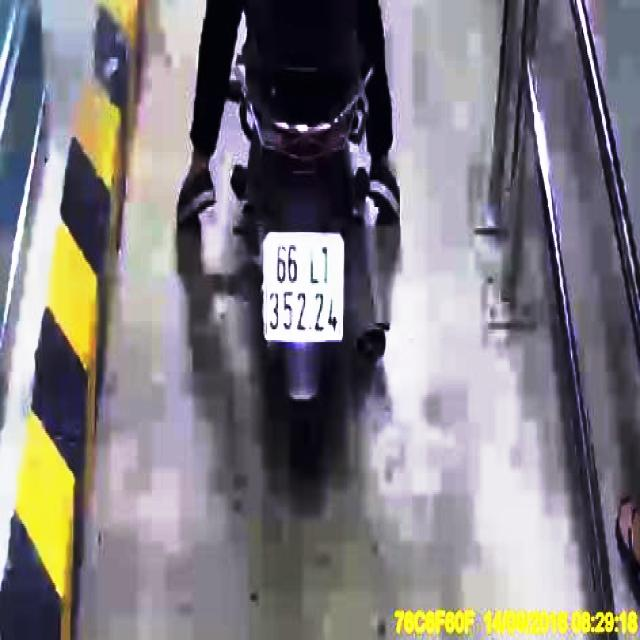license_plate: (266, 234, 345, 343)
